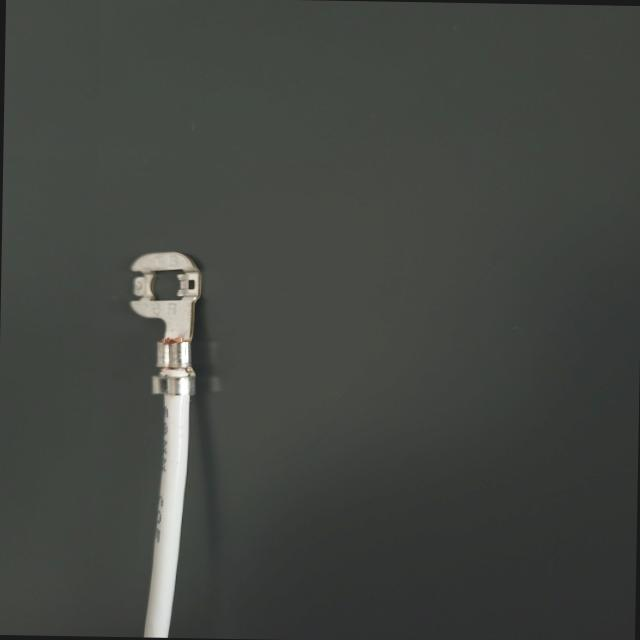good: (13, 0, 574, 640)
